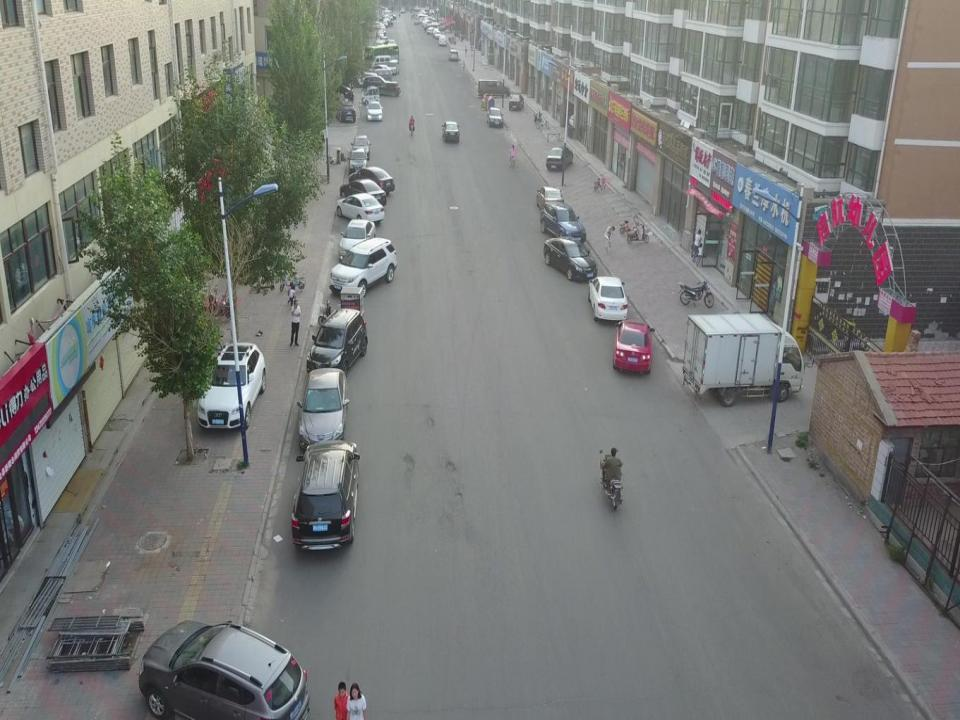bus: (364, 43, 400, 68)
car: (138, 619, 310, 720), (290, 439, 361, 550), (196, 342, 266, 429), (305, 308, 368, 379), (296, 366, 348, 448), (330, 236, 398, 294), (543, 236, 598, 282), (612, 319, 656, 375), (540, 200, 587, 246), (588, 276, 628, 324), (338, 219, 376, 266), (334, 193, 386, 227), (340, 179, 388, 212), (348, 166, 394, 195), (535, 185, 564, 212), (545, 146, 573, 170), (346, 148, 368, 176), (362, 75, 390, 94), (350, 135, 371, 160), (334, 100, 356, 123), (351, 72, 380, 88), (374, 81, 401, 96), (486, 106, 504, 128), (442, 121, 459, 143), (366, 101, 384, 121), (360, 86, 380, 104), (368, 65, 390, 78), (508, 94, 524, 110), (448, 49, 459, 61)
truck: (682, 312, 806, 408)
van: (476, 79, 510, 99), (370, 54, 391, 70), (388, 60, 400, 76)
